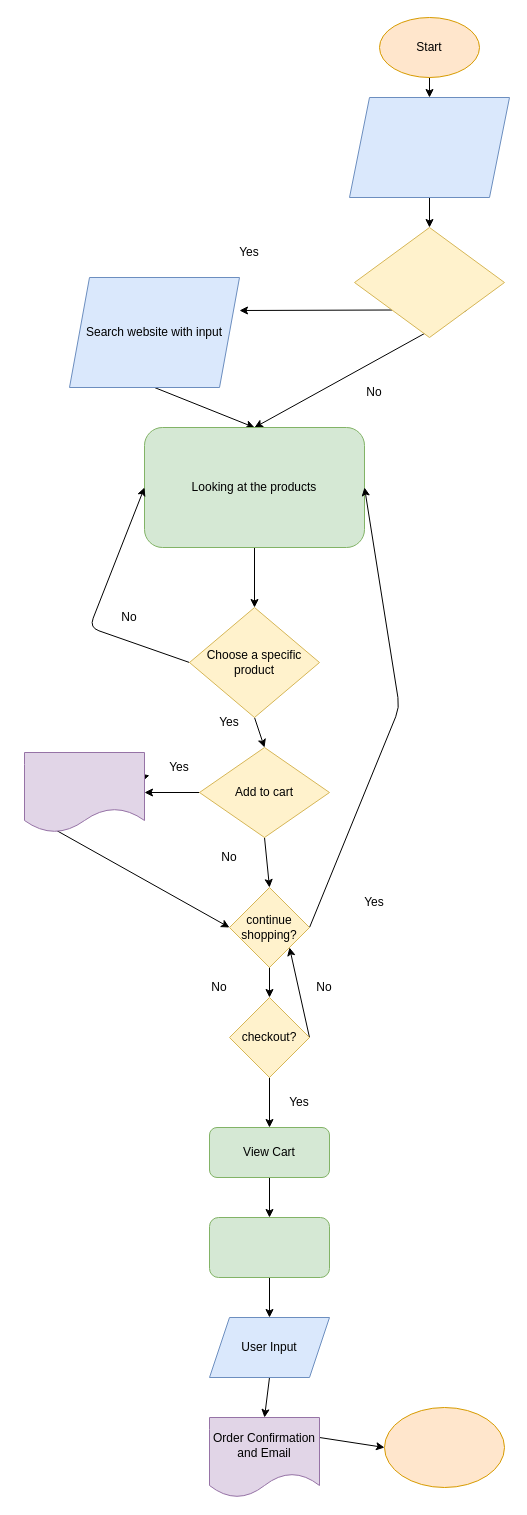
This 527x1515 diagram has some shape labels left out. Each missing label, with the box of its shape:
Add to cart confirmation: (24, 752, 144, 832)
Confirm Wanting to pay: (208, 1216, 330, 1278)
Exit: (384, 1406, 504, 1488)
Search Product: (354, 226, 504, 338)
User enters website: (348, 96, 510, 198)
